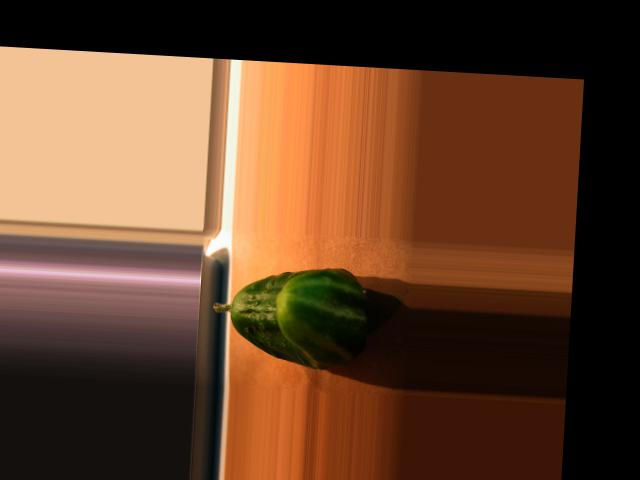cucumber: (209, 260, 371, 370)
